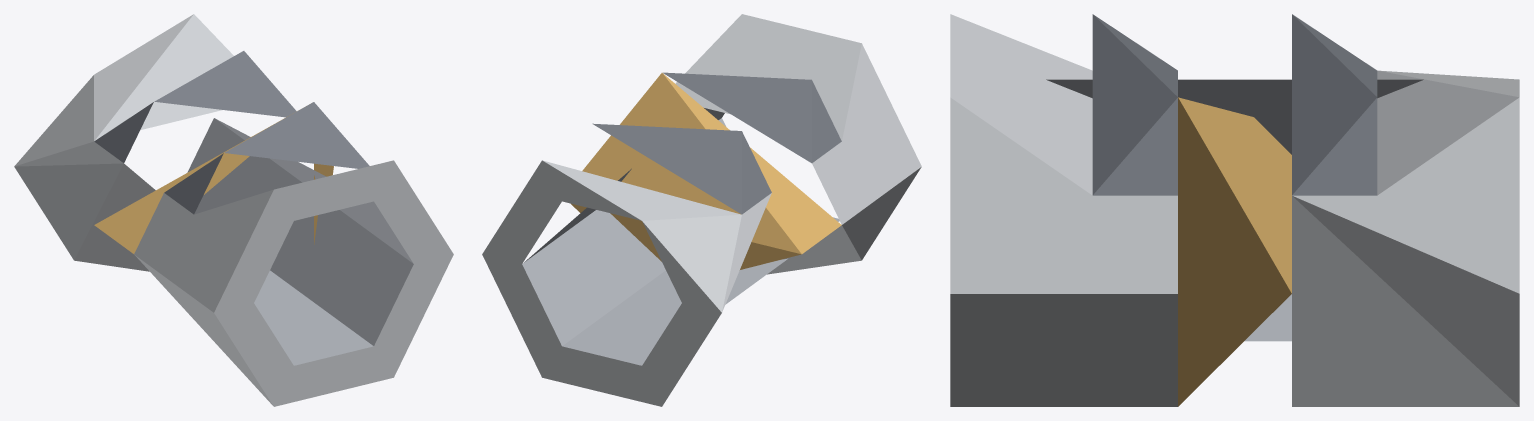
Rendered from pipe_ring.lod.glb.
3 renders of one model, left to right at view 1: azimuth 30°, elevation 25°; view 2: azimuth 150°, elevation 25°; view 3: azimuth 270°, elevation 25°, orthographic. The views are drawn at different scales.
Visible parts, largest first — view 1: pipe_ring; view 2: pipe_ring; view 3: pipe_ring.
Part boxes in pixels (<box>): pipe_ring: <box>14,14,453,406</box>; pipe_ring: <box>482,14,921,406</box>; pipe_ring: <box>950,14,1519,406</box>.
Size of the model in its own units: 0.6928 by 0.6001 by 1.
